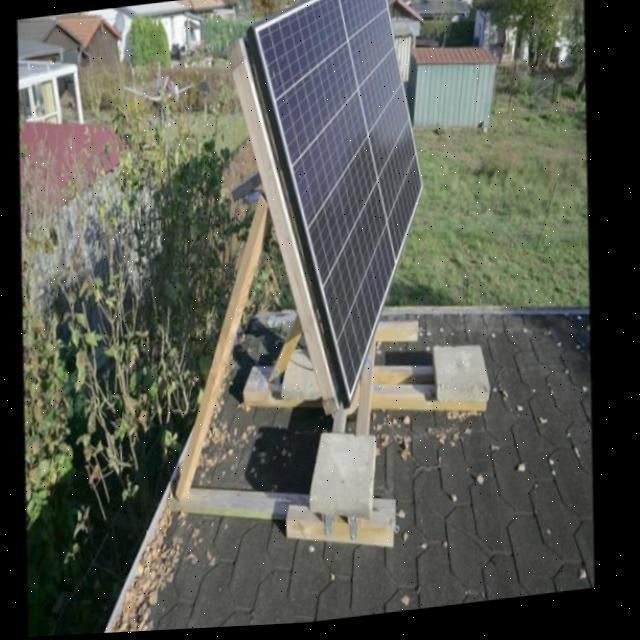Normal Solar Panel: (238, 0, 445, 410)
